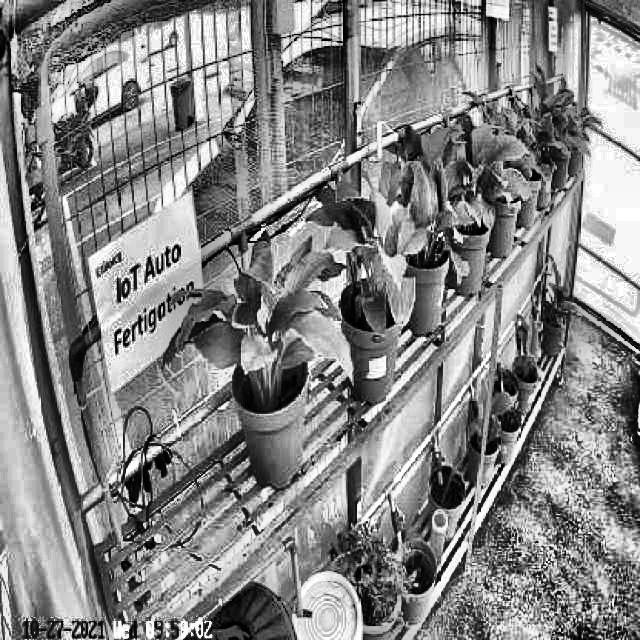plants: (162, 226, 353, 392), (321, 179, 414, 335), (384, 124, 470, 284), (437, 104, 532, 222)
